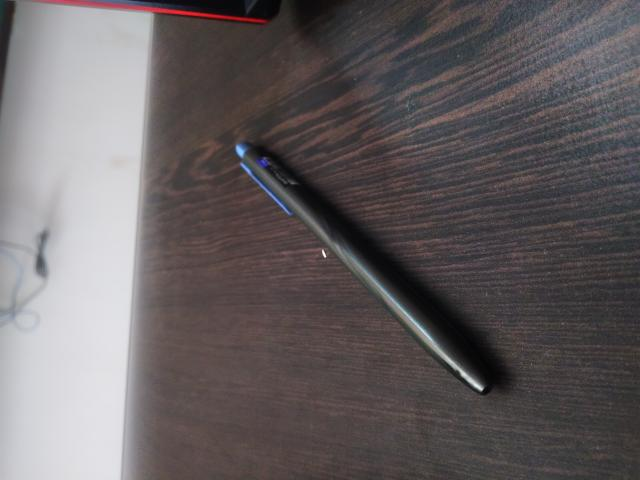PEN: (80, 215, 355, 480)
